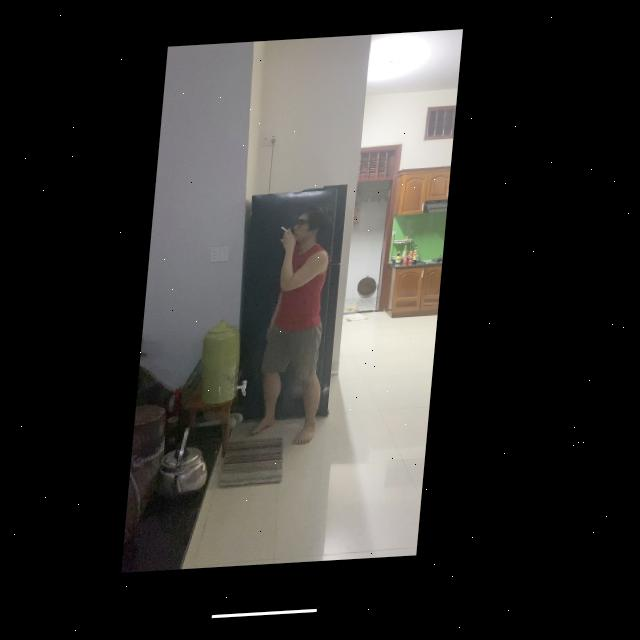cigarette: (284, 230, 293, 237)
